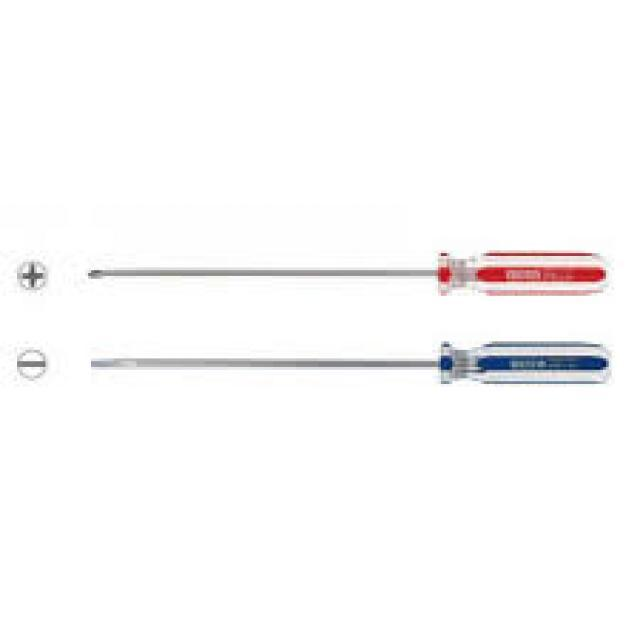screwdriver: (85, 338, 618, 387), (81, 250, 610, 299)
